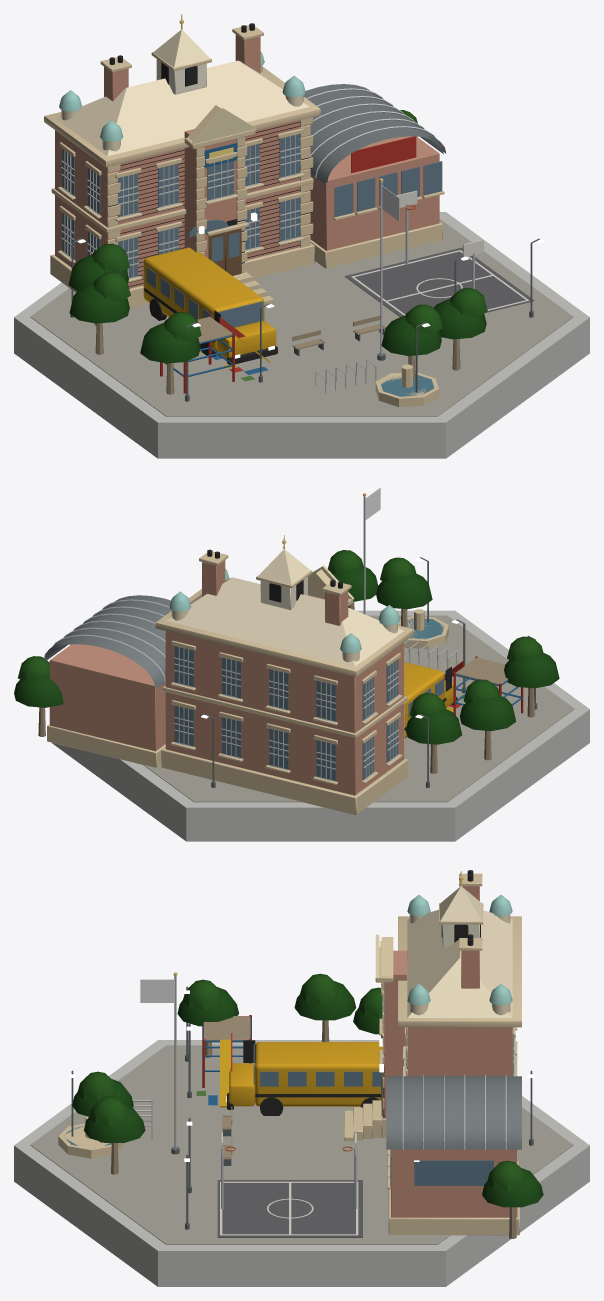
File: school_arab.glb
3 renders of one model, top to bottom at view 1: azimuth 30°, elevation 25°; view 2: azimuth 150°, elevation 25°; view 3: azimuth 270°, elevation 25°, orthographic. The views are drawn at different scales.
Parts seen in each view (by area): view 1: pavers, wall_concrete, brick, stone, glass, plaster, leaf, paint, asphalt, dark, wood, metal (+2 smaller); view 2: wall_concrete, brick, stone, pavers, leaf, plaster, glass, paint, wood, metal, copper, steel_dark (+1 smaller); view 3: wall_concrete, pavers, brick, leaf, stone, paint, plaster, asphalt, glass, wood, metal, dark (+3 smaller).
Boxes of the visible parts, <box> form: pavers: <box>30,219,573,416</box>; wall_concrete: <box>14,84,589,458</box>; brick: <box>55,34,439,288</box>; stone: <box>44,25,444,407</box>; glass: <box>62,134,442,396</box>; plaster: <box>55,29,309,156</box>; leaf: <box>68,110,487,363</box>; paint: <box>143,136,529,393</box>; asphalt: <box>344,247,534,316</box>; dark: <box>107,23,310,364</box>; wood: <box>94,228,460,394</box>; metal: <box>306,88,474,393</box>; wall_concrete: <box>43,595,589,841</box>; brick: <box>49,560,403,795</box>; stone: <box>47,551,448,814</box>; pavers: <box>143,615,574,802</box>; leaf: <box>14,550,559,744</box>; plaster: <box>166,549,403,666</box>; glass: <box>174,618,444,780</box>; paint: <box>404,656,523,738</box>; wood: <box>38,601,534,773</box>; metal: <box>52,496,456,682</box>; copper: <box>169,569,399,653</box>; steel_dark: <box>205,557,537,787</box>; wall_concrete: <box>14,995,589,1286</box>; pavers: <box>30,1045,573,1244</box>; brick: <box>384,886,517,1217</box>; leaf: <box>72,973,543,1207</box>; stone: <box>58,873,521,1235</box>; paint: <box>196,1015,382,1235</box>; plaster: <box>407,886,512,1017</box>; asphalt: <box>217,1180,362,1237</box>; glass: <box>64,1037,513,1186</box>; wood: <box>99,1016,516,1238</box>; metal: <box>133,975,506,1209</box>; dark: <box>227,870,480,1118</box>.
Bounding box in the file's own units: 21.48 × 13.7 × 24.6.
